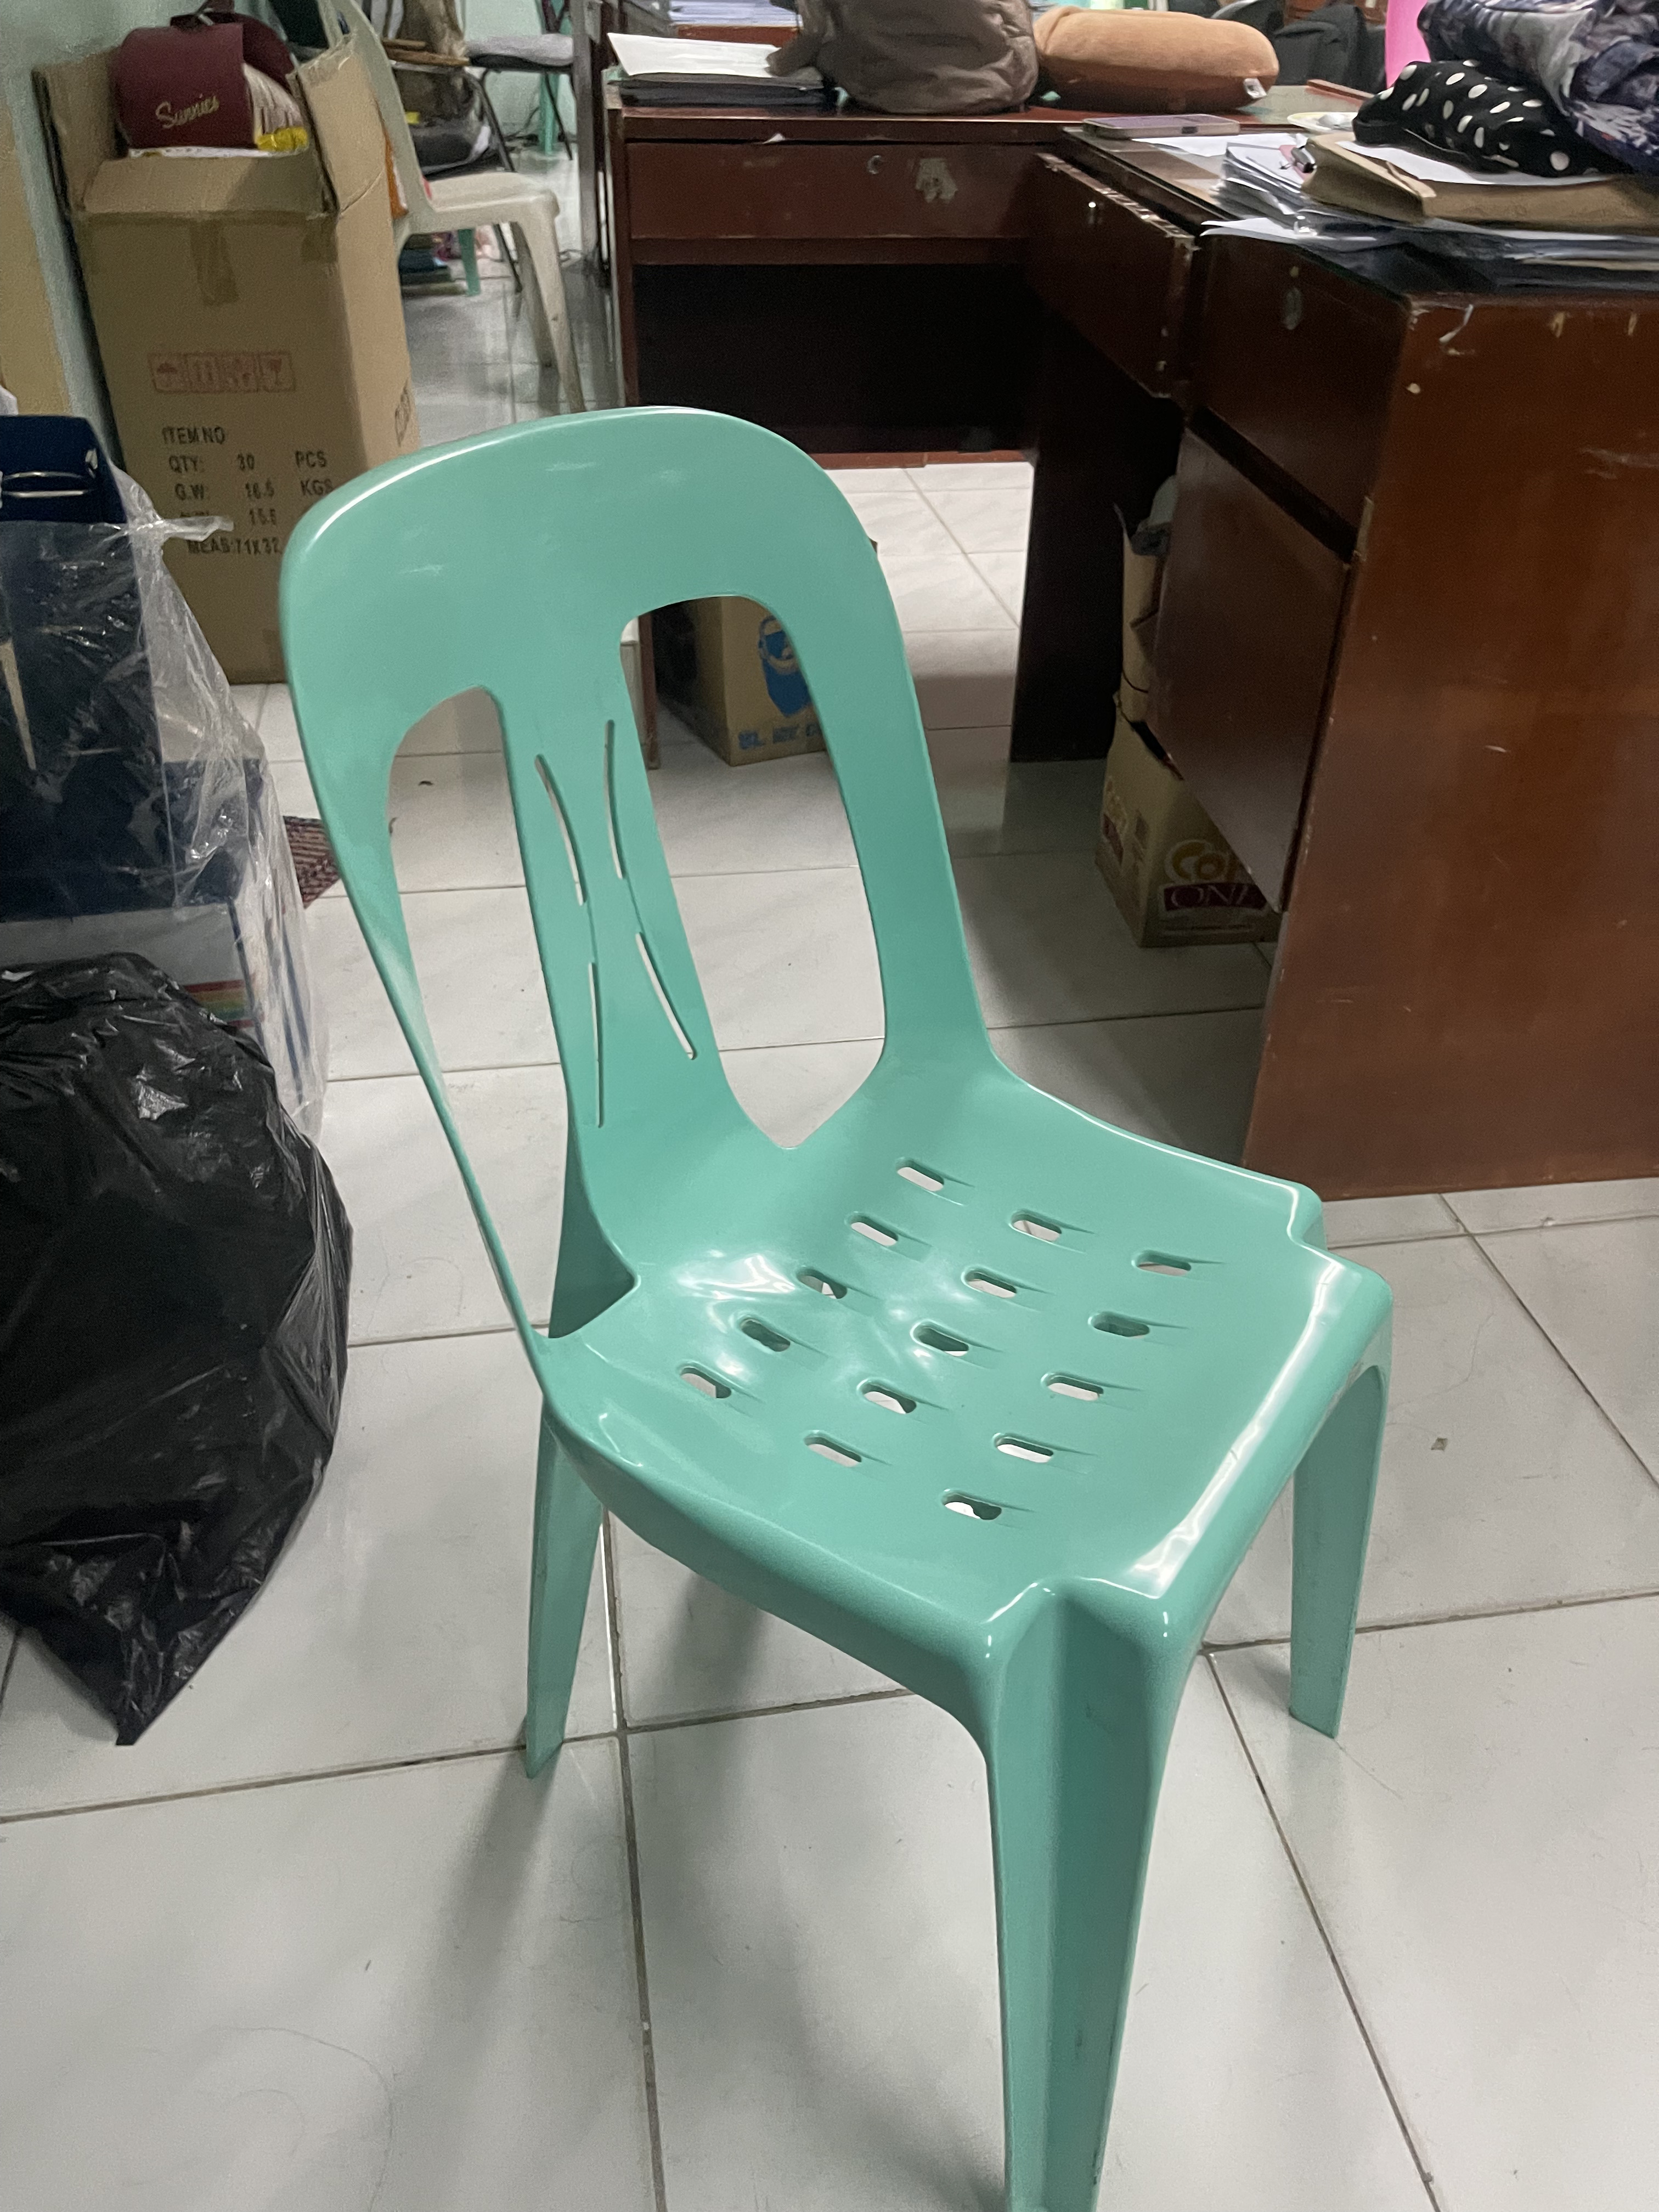chair2: (267, 388, 1419, 2212)
